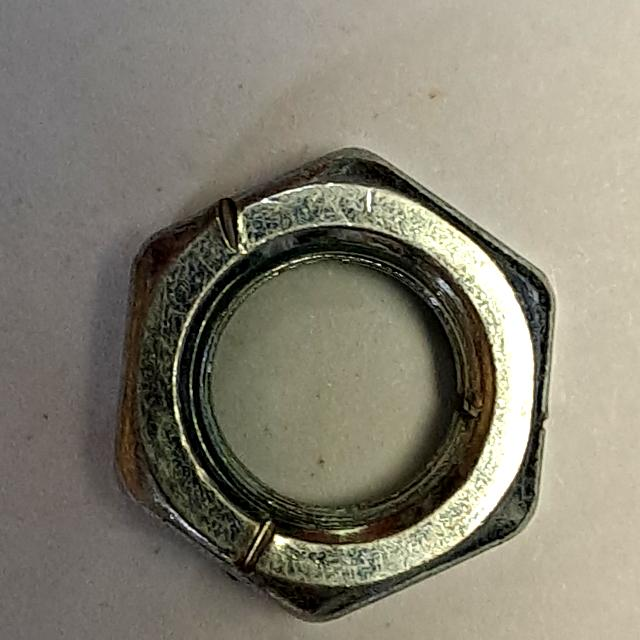Scratches: (100, 137, 567, 636)
